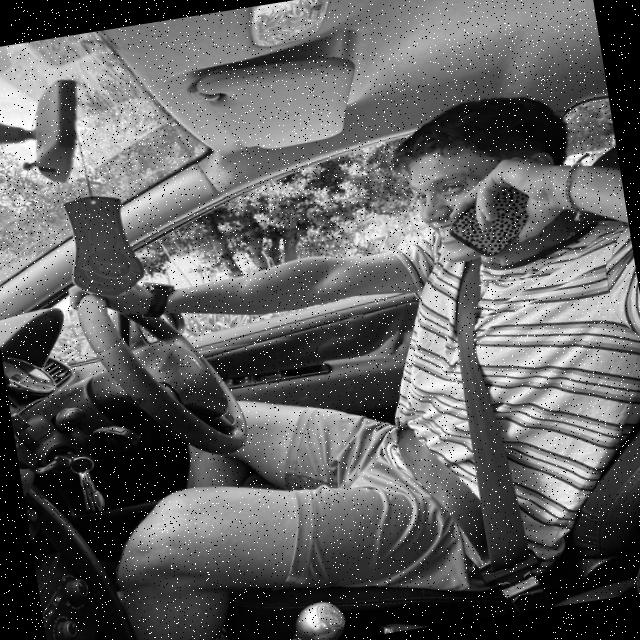Phone: (439, 173, 558, 268)
Seatbelt: (392, 246, 582, 595)
